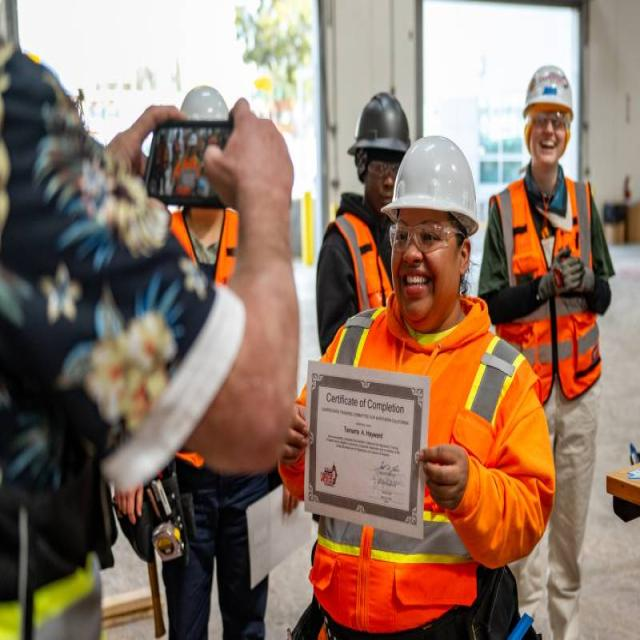Gloves: (534, 241, 602, 312)
Hard Hat: (378, 122, 488, 226), (338, 73, 420, 168), (519, 54, 579, 115), (172, 84, 239, 121)
Reflective Vest: (303, 296, 546, 634), (483, 170, 608, 398), (159, 206, 243, 473), (323, 204, 400, 315)
Safety Glasses: (388, 222, 471, 256), (365, 154, 407, 182), (525, 113, 569, 136)
